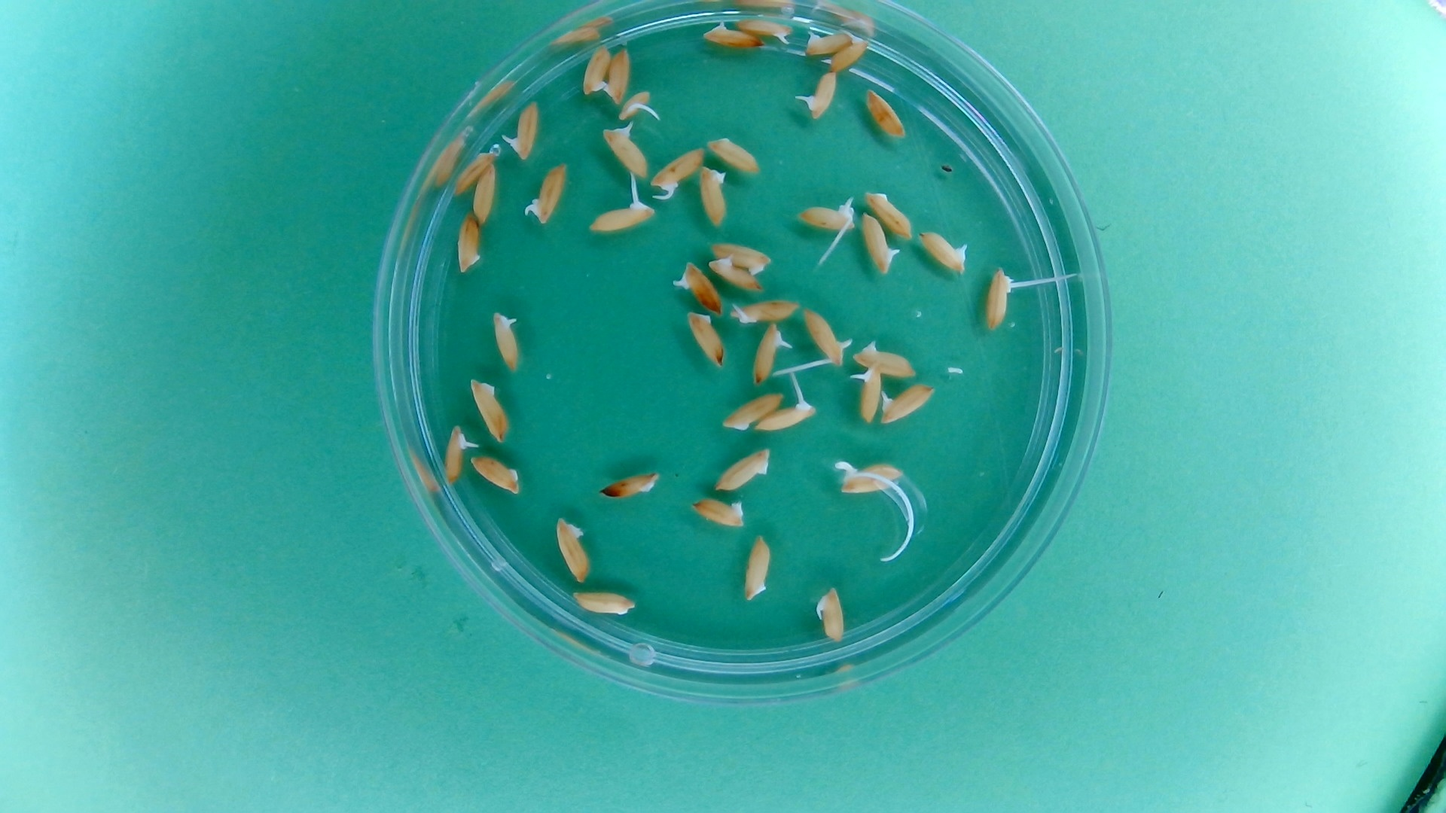no: (468, 376, 514, 445), (712, 446, 773, 493), (553, 514, 593, 585), (864, 186, 916, 239), (684, 308, 728, 370), (718, 391, 784, 431), (468, 451, 525, 496), (863, 85, 908, 142), (452, 144, 500, 196), (706, 133, 764, 175), (740, 531, 773, 603), (706, 239, 773, 274), (705, 254, 767, 291), (697, 163, 731, 229), (689, 495, 748, 530), (453, 209, 484, 275), (569, 587, 637, 617), (597, 469, 662, 500), (471, 161, 499, 227), (580, 42, 612, 99), (602, 46, 632, 105), (701, 20, 762, 49), (826, 35, 870, 72), (801, 27, 855, 56)
yes: (800, 305, 850, 367), (651, 144, 706, 192), (917, 226, 972, 274), (859, 209, 899, 274), (878, 381, 936, 425), (601, 123, 648, 177), (853, 340, 918, 379), (679, 260, 724, 315), (836, 461, 904, 496), (587, 199, 655, 233), (750, 322, 786, 385), (755, 397, 817, 433), (729, 296, 803, 325), (441, 422, 473, 486), (983, 266, 1014, 332), (490, 309, 522, 372), (814, 585, 848, 644), (530, 167, 565, 224), (797, 200, 856, 233), (853, 363, 883, 423), (804, 69, 839, 120), (512, 100, 541, 161), (615, 88, 651, 120), (740, 19, 792, 39)
